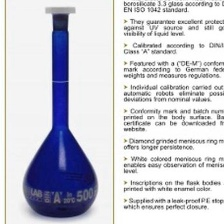bottle: (19, 2, 102, 219)
